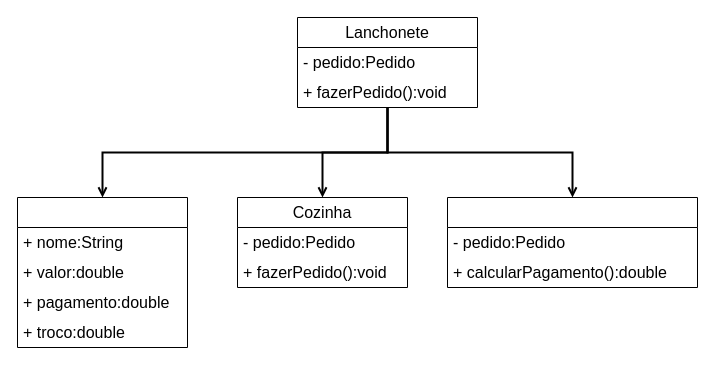
Image size: 715x365. Some labels were removed from this diagram. The shapes that lost their labels are listed below. From the top down, each one's box as (x1, y1, x2, y2) in pixels, then its label:
(446, 196, 698, 288): Caixa
(16, 196, 188, 348): Pedido
